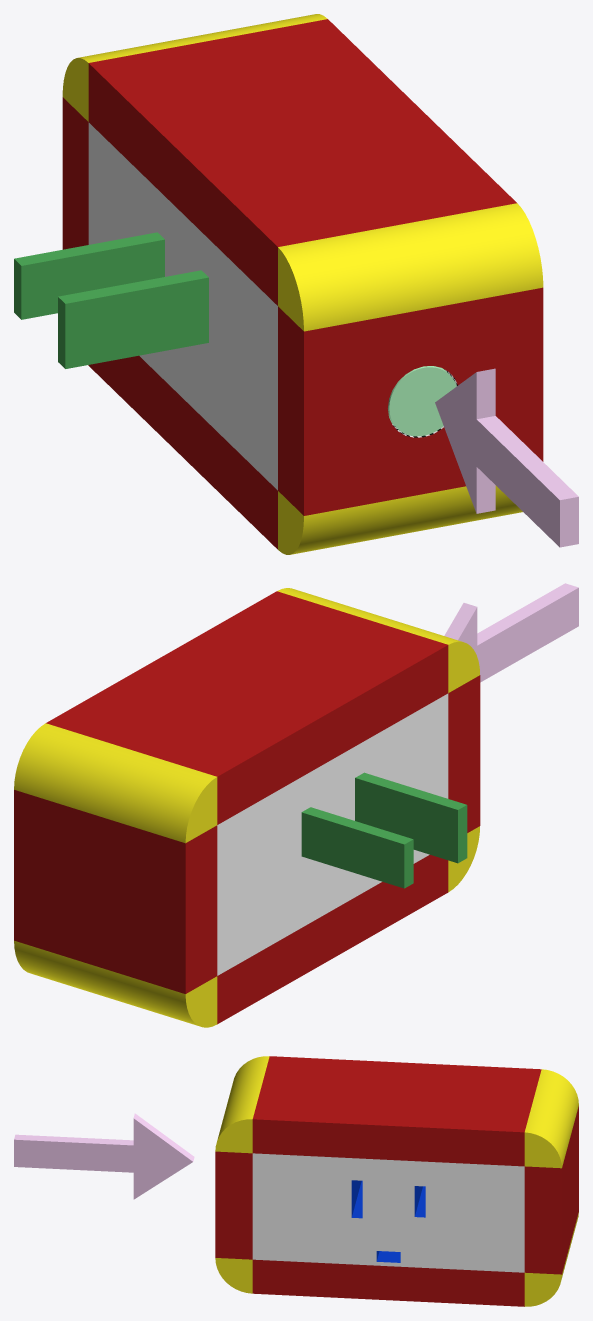
File: Case_Study_SmartSwitch_6.glb
The picture shows the model from 3 angles, top to bottom: view 1: azimuth 30°, elevation 25°; view 2: azimuth 150°, elevation 25°; view 3: azimuth 270°, elevation 25°; orthographic projection. The views are drawn at different scales.
Visible parts, largest first — view 1: Part 11, Part 10, Part 13, Part 15, Part 9, Part 8; view 2: Part 11, Part 13, Part 10, Part 15, Part 9; view 3: Part 11, Part 13, Part 10, Part 9, Part 14.
Boxes of the visible parts, left/top/right/bottom form: Part 11: left=62, top=19, right=543, bottom=549; Part 10: left=62, top=14, right=543, bottom=554; Part 13: left=88, top=122, right=277, bottom=490; Part 15: left=14, top=232, right=208, bottom=368; Part 9: left=435, top=368, right=578, bottom=547; Part 8: left=388, top=366, right=456, bottom=436; Part 11: left=14, top=591, right=480, bottom=1024; Part 13: left=217, top=693, right=448, bottom=975; Part 10: left=14, top=588, right=479, bottom=1027; Part 15: left=301, top=772, right=467, bottom=888; Part 9: left=444, top=583, right=578, bottom=682; Part 11: left=215, top=1056, right=578, bottom=1306; Part 13: left=252, top=1153, right=524, bottom=1272; Part 10: left=215, top=1056, right=578, bottom=1306; Part 9: left=14, top=1113, right=194, bottom=1199; Part 14: left=351, top=1180, right=425, bottom=1262.
Size of the model in its own units: 0.0555 by 0.0406 by 0.1193.
8 materials, 1 textured.
